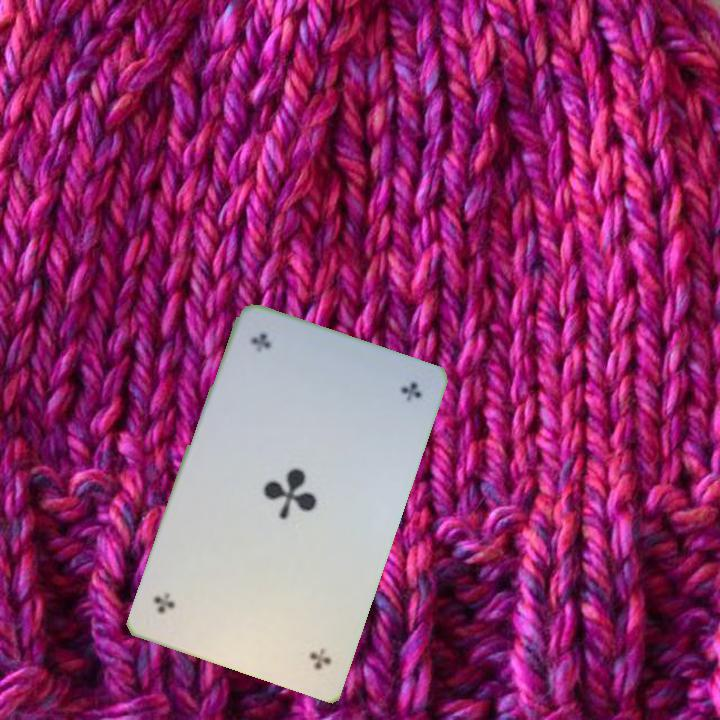c_a.png: (233, 571, 354, 684), (221, 318, 341, 430)
